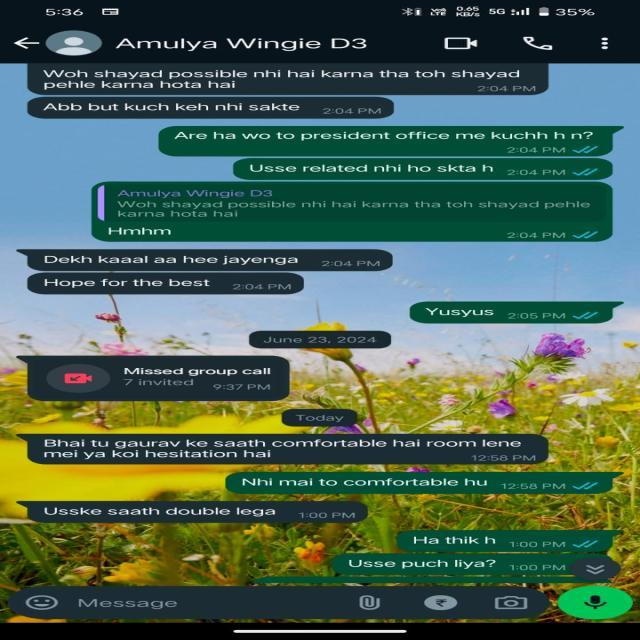scam: (37, 436, 530, 462), (42, 68, 530, 94), (31, 250, 322, 270), (44, 96, 317, 117), (36, 503, 299, 524), (32, 274, 250, 294)
